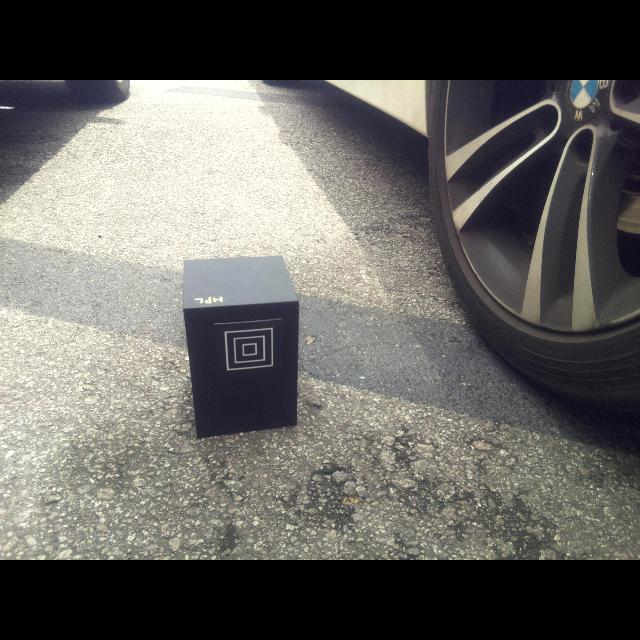BULLSEYE: (224, 326, 274, 371)
